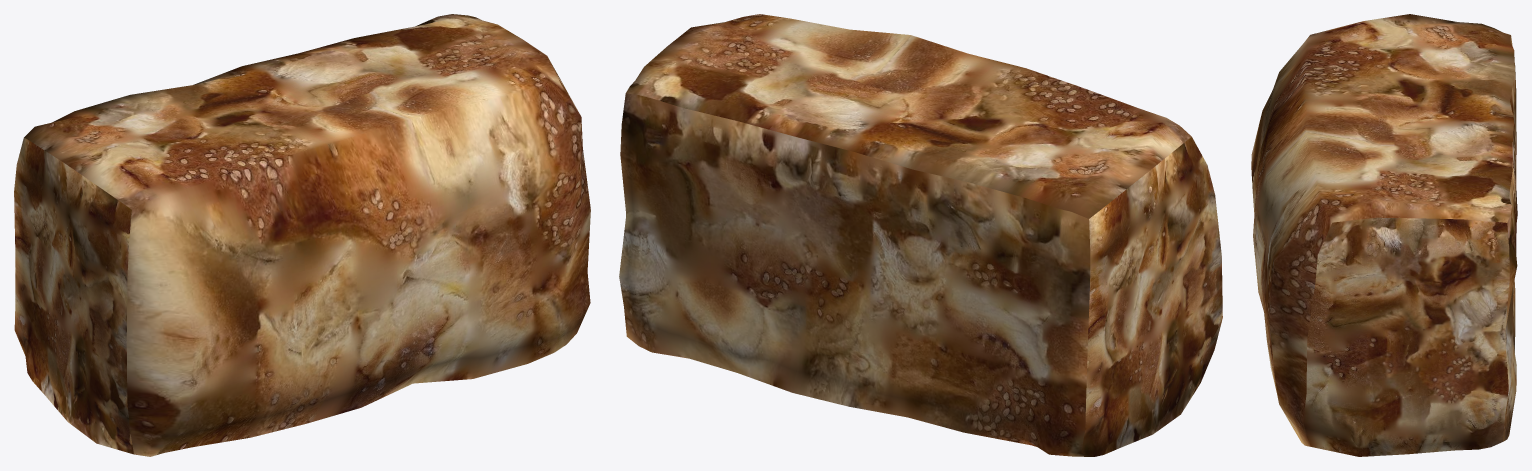
The picture shows the model from 3 angles, left to right: view 1: azimuth 30°, elevation 25°; view 2: azimuth 150°, elevation 25°; view 3: azimuth 270°, elevation 25°; orthographic projection. The views are drawn at different scales.
Size of the model in its own units: 1 by 0.5559 by 0.5243.
